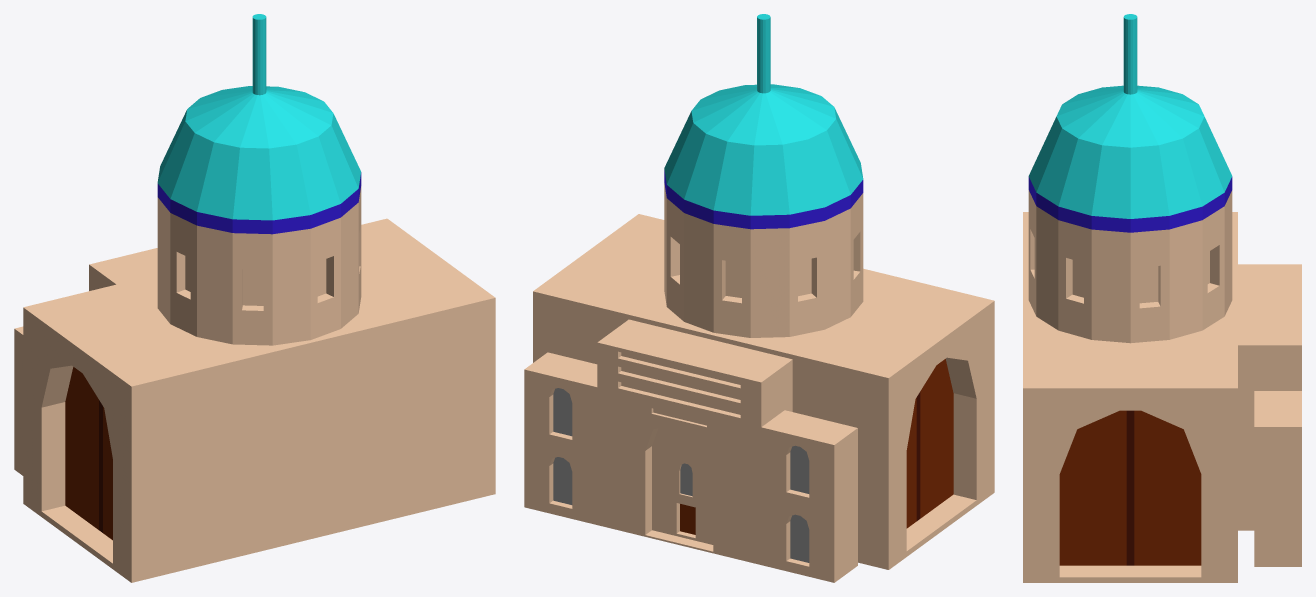
File: BuldingMarket.fbx
The picture shows the model from 3 angles, left to right: view 1: azimuth 30°, elevation 25°; view 2: azimuth 150°, elevation 25°; view 3: azimuth 270°, elevation 25°; orthographic projection. The views are drawn at different scales.
Parts seen in each view (by area): view 1: Cube.017; view 2: Cube.017; view 3: Cube.017.
Boxes of the visible parts, x1,y1,x2,y2 form: Cube.017: [14, 14, 495, 582]; Cube.017: [524, 14, 994, 582]; Cube.017: [1023, 14, 1301, 582].
Bounding box in the file's own units: 1496 × 1893 × 1001.
